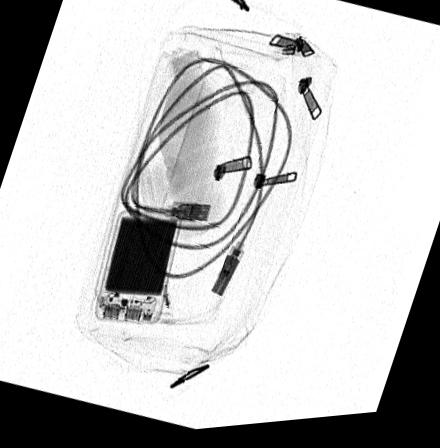Powerbank: (94, 211, 182, 328)
